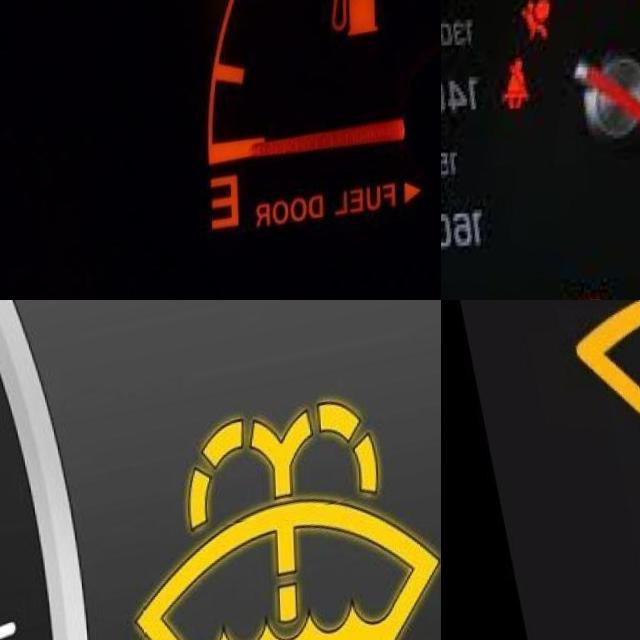Seat Belt: (497, 62, 531, 121)
Washer Fluid: (122, 401, 440, 640), (569, 300, 640, 600)
